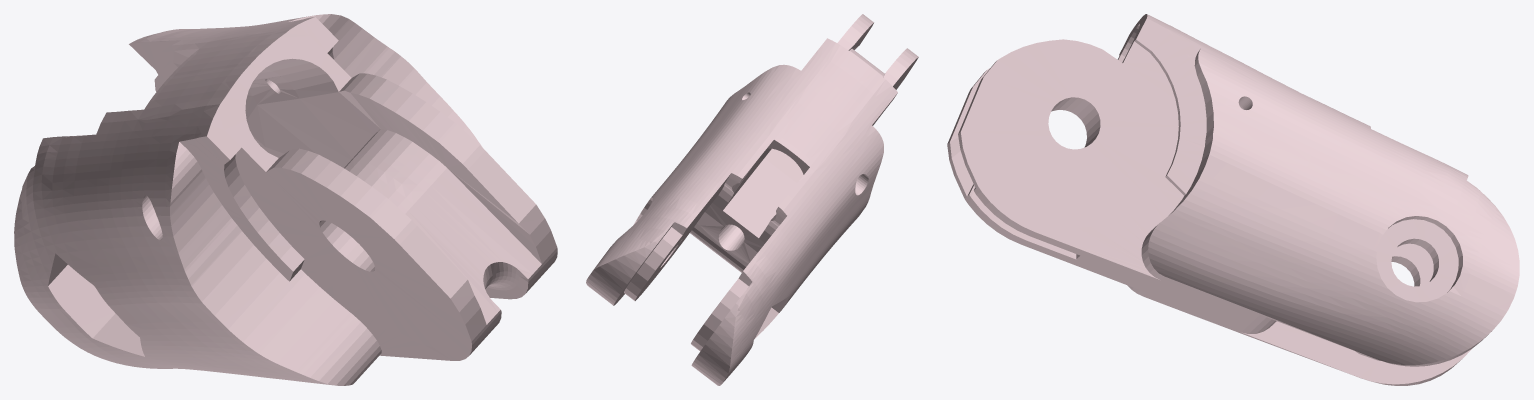
Rendered from i02_rightHand_ringFingerMid_visual.obj.full.glb.
3 renders of one model, left to right at view 1: azimuth 30°, elevation 25°; view 2: azimuth 150°, elevation 25°; view 3: azimuth 270°, elevation 25°, orthographic. The views are drawn at different scales.
Size of the model in its own units: 0.1927 by 0.2688 by 0.3907.
